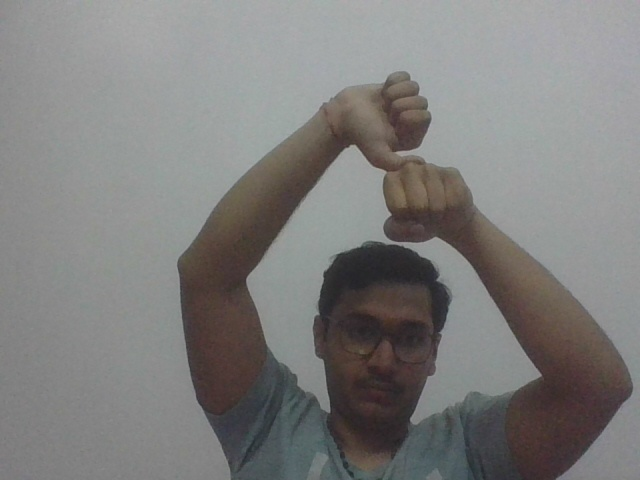S: (347, 66, 476, 248)
